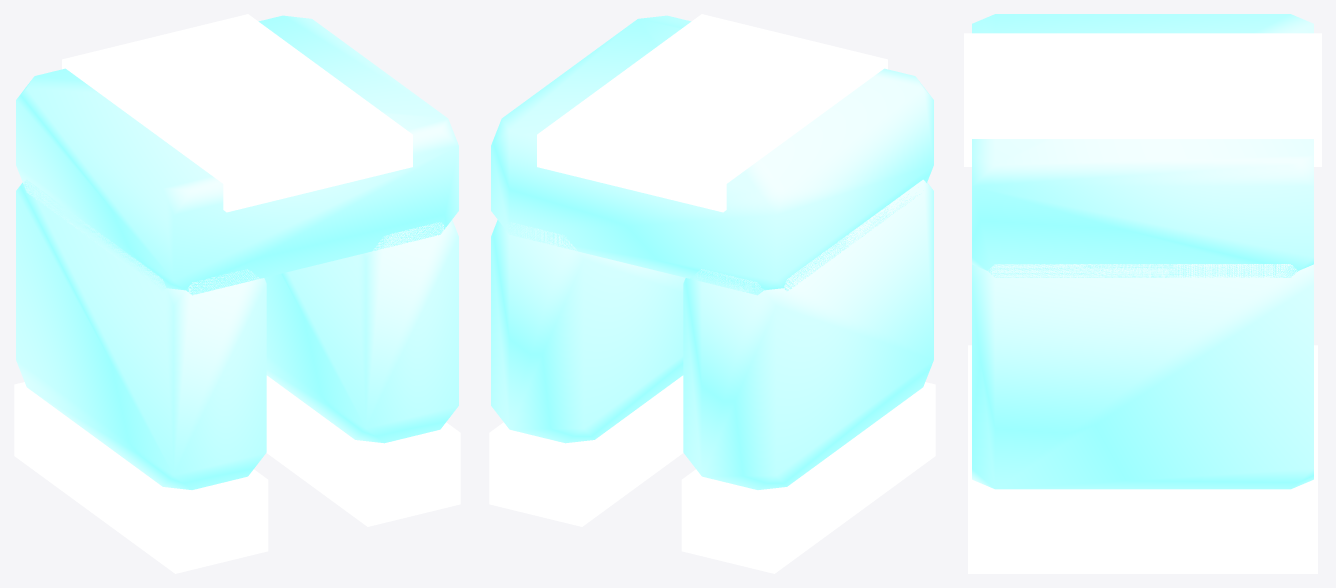
File: PU_Magnet.glb
3 renders of one model, left to right at view 1: azimuth 30°, elevation 25°; view 2: azimuth 150°, elevation 25°; view 3: azimuth 270°, elevation 25°, orthographic. The views are drawn at different scales.
Visible parts, largest first — view 1: yoke, prong_-1, band, prong_1, pole_-1, pole_1; view 2: yoke, prong_-1, band, prong_1, pole_-1, pole_1; view 3: prong_1, yoke, band, pole_1, pole_-1.
Part boxes in pixels (x1,y1,x2,y2): yoke: (16, 15, 458, 295); prong_-1: (16, 179, 266, 489); band: (62, 14, 412, 212); prong_1: (264, 220, 458, 443); pole_-1: (14, 382, 268, 573); pole_1: (266, 375, 460, 526); yoke: (491, 15, 933, 295); prong_-1: (683, 179, 933, 489); band: (537, 14, 887, 212); prong_1: (491, 220, 685, 443); pole_-1: (681, 382, 935, 573); pole_1: (489, 375, 683, 526); prong_1: (972, 264, 1313, 489); yoke: (972, 14, 1313, 277); band: (964, 33, 1321, 166); pole_1: (968, 447, 1317, 573); pole_-1: (968, 345, 1317, 446).
Bounding box in the file's own units: 0.46 × 0.59 × 0.46.
